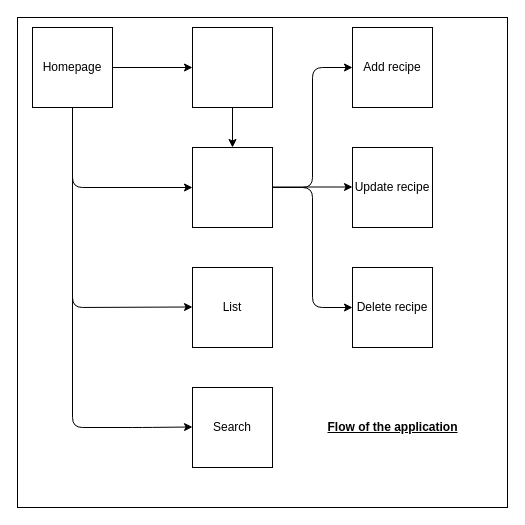
The diagram is 525 pixels wide and 525 high, and some of its shapes have lost their labels. Each missing label, with the centre of its shape:
Login: [232,187]
Register: [232,67]
